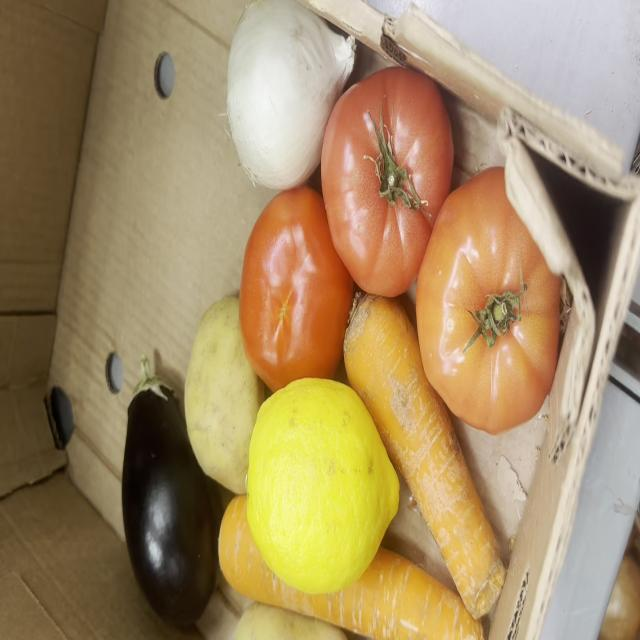carrot: (344, 293, 506, 620), (219, 494, 484, 640)
potato: (185, 296, 265, 494)
tomato: (416, 168, 560, 435), (321, 68, 454, 298), (239, 185, 354, 390)
